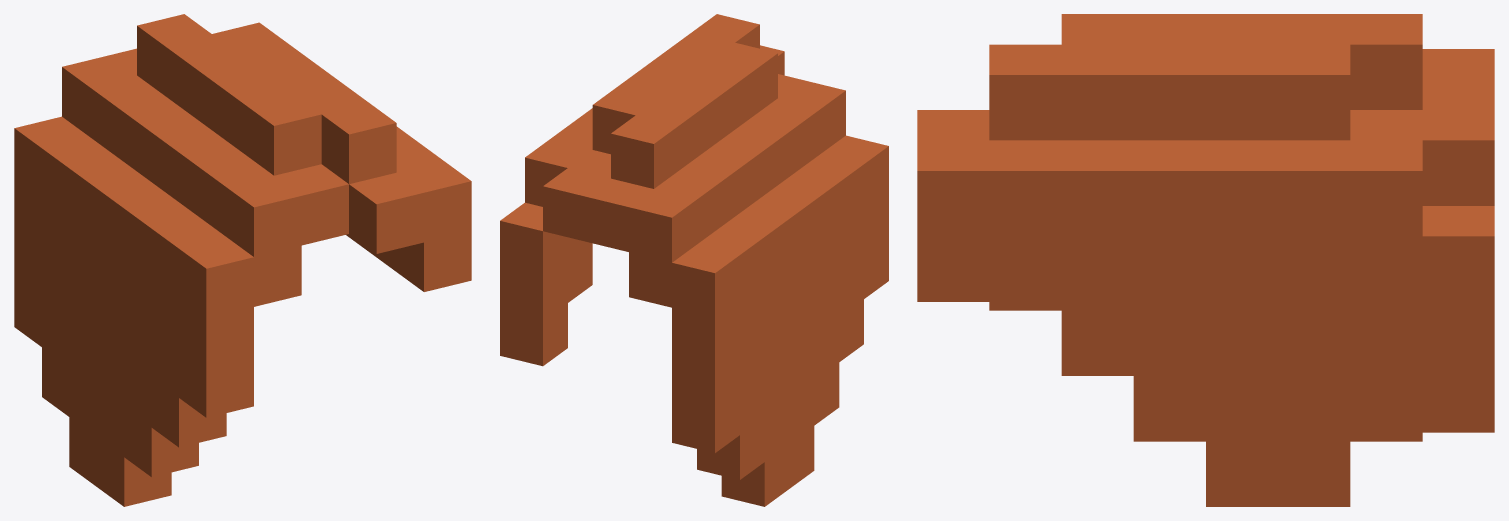
Rendered from Bernard_Ear_Right.obj.
3 renders of one model, left to right at view 1: azimuth 30°, elevation 25°; view 2: azimuth 150°, elevation 25°; view 3: azimuth 270°, elevation 25°, orthographic. The views are drawn at different scales.
Parts seen in each view (by area): view 1: Bernard; view 2: Bernard; view 3: Bernard.
Boxes of the visible parts, x1,y1,x2,y2 form: Bernard: (14,14,471,506); Bernard: (500,14,888,506); Bernard: (917,14,1494,506).
Size of the model in its own units: 0.5 by 0.8 by 0.8.
Materials: 1 (1 with a texture image).
